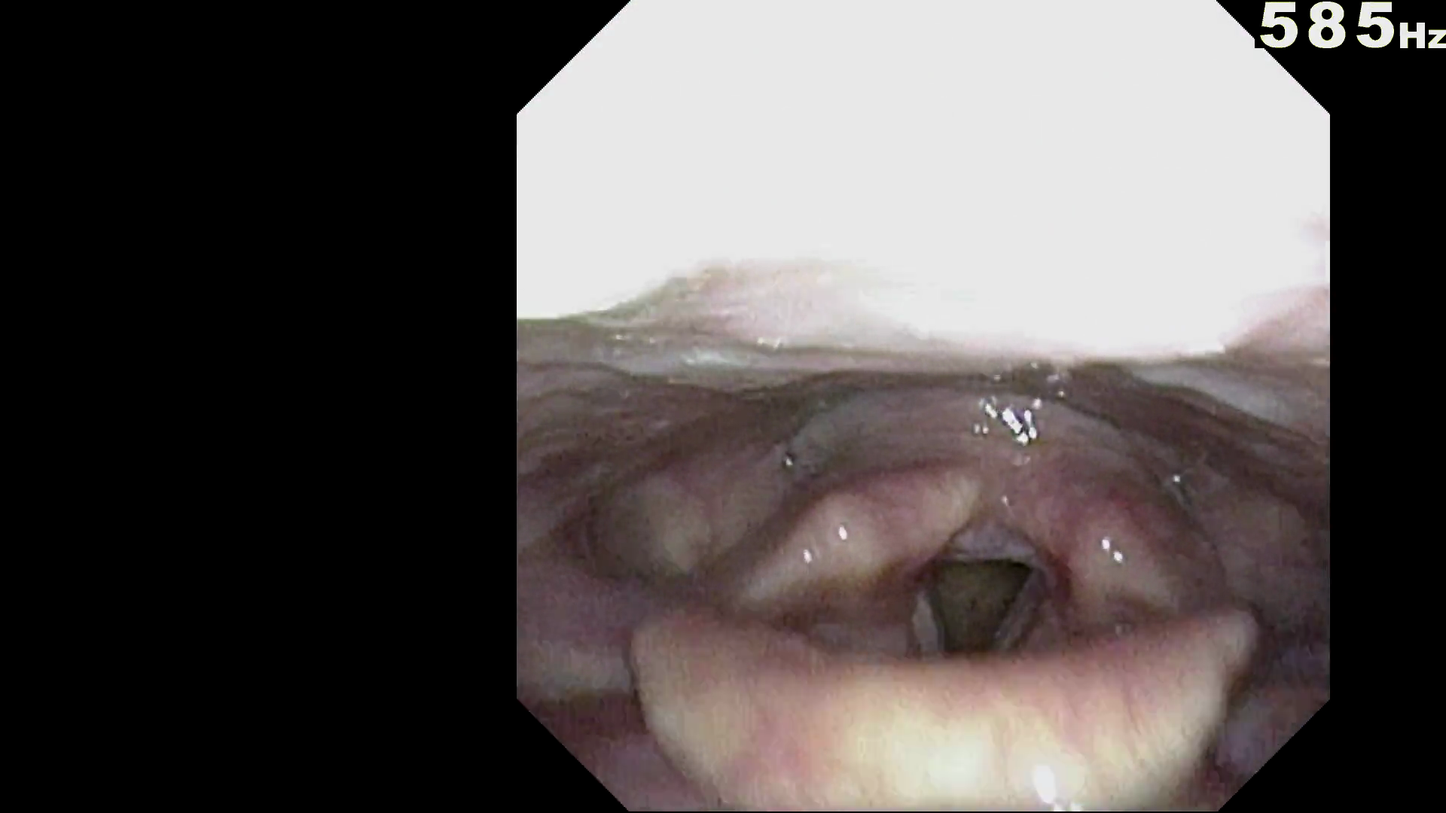epiglottis: (671, 646, 1213, 785)
trachea: (912, 553, 1041, 698)
